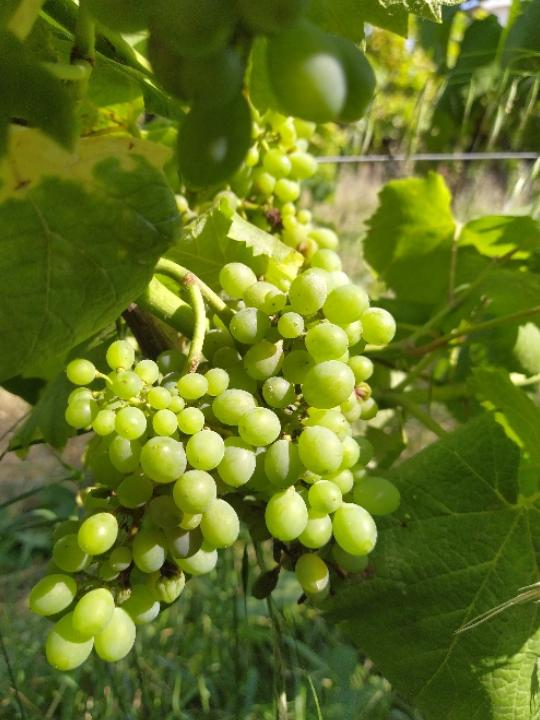grape: (26, 245, 401, 675)
